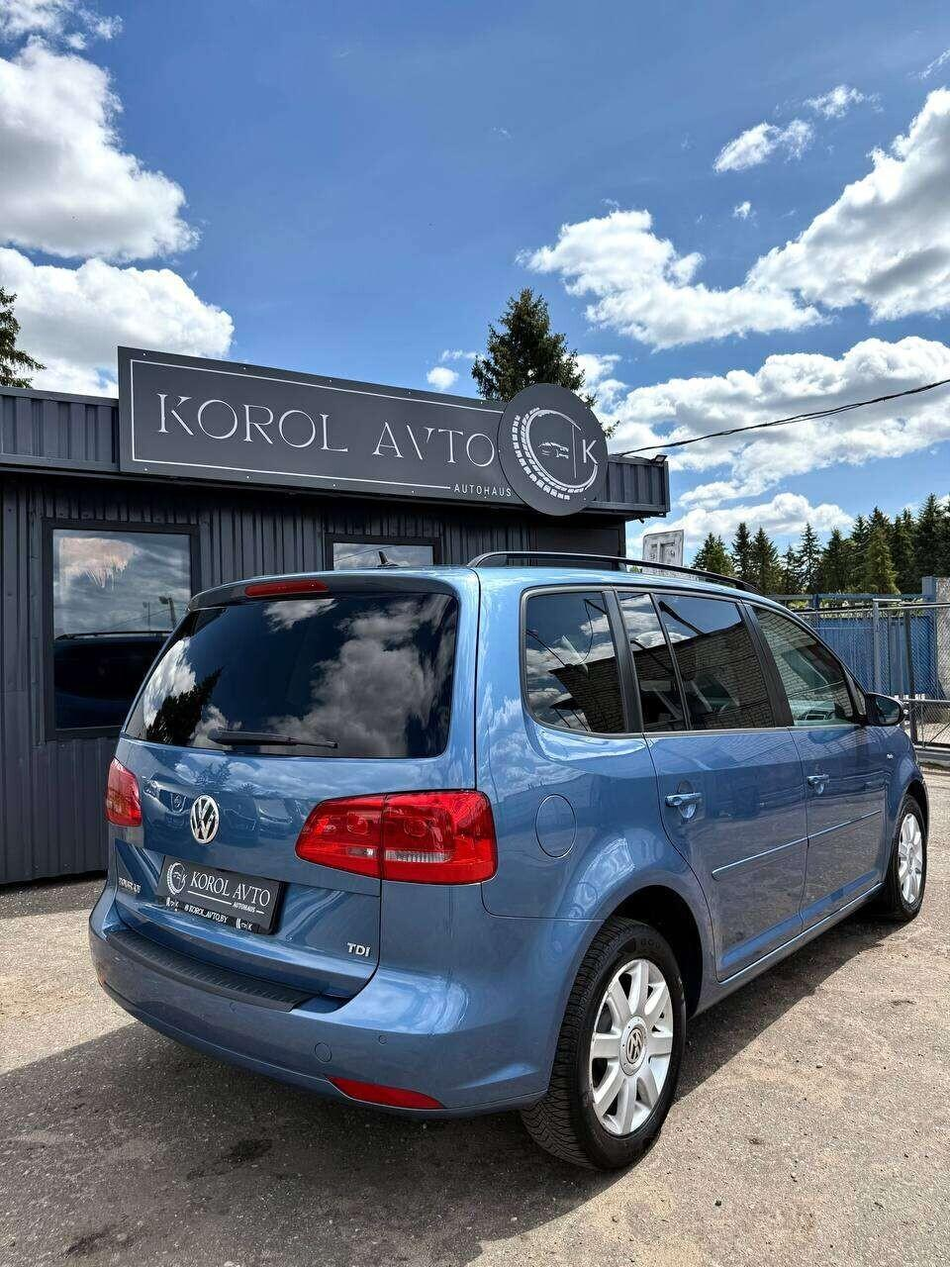Touran_2010-2015: (78, 556, 935, 1160)
